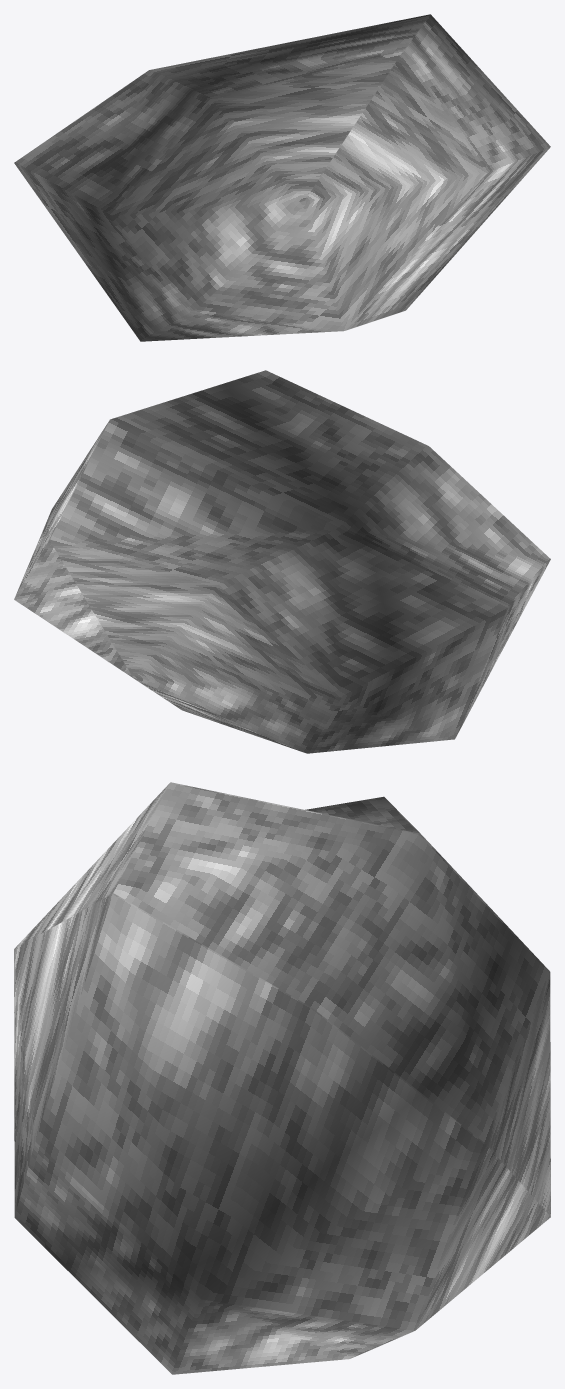
The model's file is nugget.obj.
3 renders of one model, top to bottom at view 1: azimuth 30°, elevation 25°; view 2: azimuth 150°, elevation 25°; view 3: azimuth 270°, elevation 25°, orthographic. The views are drawn at different scales.
Visible parts, largest first — view 1: Sphere01; view 2: Sphere01; view 3: Sphere01.
Boxes of the visible parts, <box> form: Sphere01: <box>14,14,550,341</box>; Sphere01: <box>14,370,550,753</box>; Sphere01: <box>14,782,550,1374</box>.
Size of the model in its own units: 3.81 by 2.07 by 2.18.
